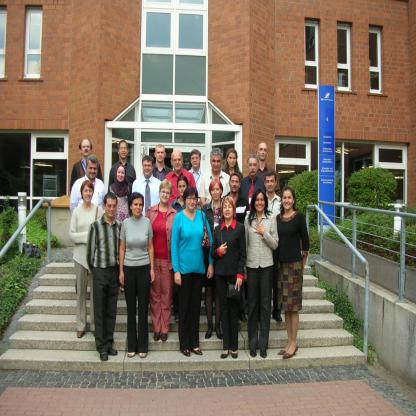face: (106, 200, 117, 218), (132, 199, 143, 217), (283, 193, 294, 210), (223, 202, 234, 219), (256, 195, 266, 212), (211, 186, 222, 201), (187, 196, 198, 211), (212, 157, 223, 172), (249, 160, 259, 176), (88, 163, 98, 179), (172, 156, 183, 170), (83, 187, 94, 201), (266, 177, 276, 192), (161, 188, 171, 203), (231, 178, 241, 192), (178, 183, 188, 197), (82, 143, 92, 156), (119, 144, 128, 158), (259, 147, 268, 160), (157, 149, 166, 162), (144, 162, 153, 175), (229, 155, 238, 167), (192, 155, 201, 167), (118, 169, 125, 182)
